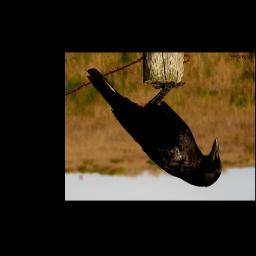Crow: (85, 67, 222, 187)
